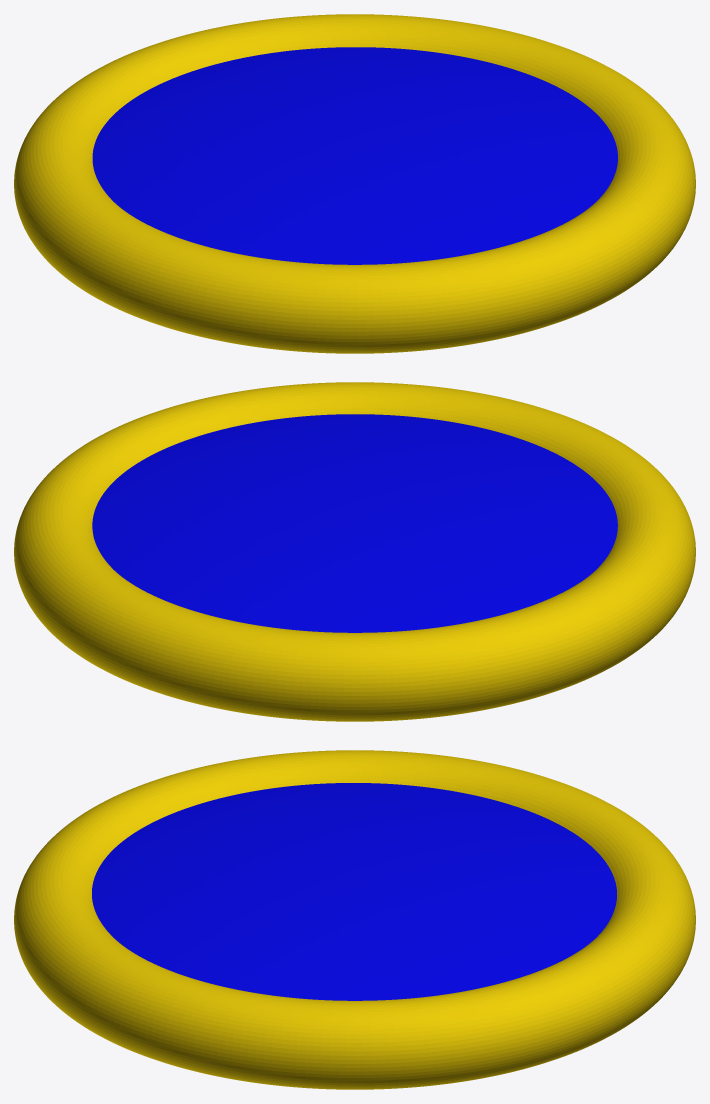
Rendered from ステージピン.fbx.
The picture shows the model from 3 angles, top to bottom: view 1: azimuth 30°, elevation 25°; view 2: azimuth 150°, elevation 25°; view 3: azimuth 270°, elevation 25°; orthographic projection.
Visible parts, largest first — view 1: トーラス, 球; view 2: トーラス, 球; view 3: トーラス, 球.
Part boxes in pixels (x1,y1,x2,y2): トーラス: [14, 14, 695, 353]; 球: [92, 47, 617, 264]; トーラス: [14, 382, 695, 721]; 球: [92, 414, 617, 632]; トーラス: [14, 750, 695, 1089]; 球: [92, 783, 616, 1000].
Size of the model in its own units: 460 by 63.99 by 460.
